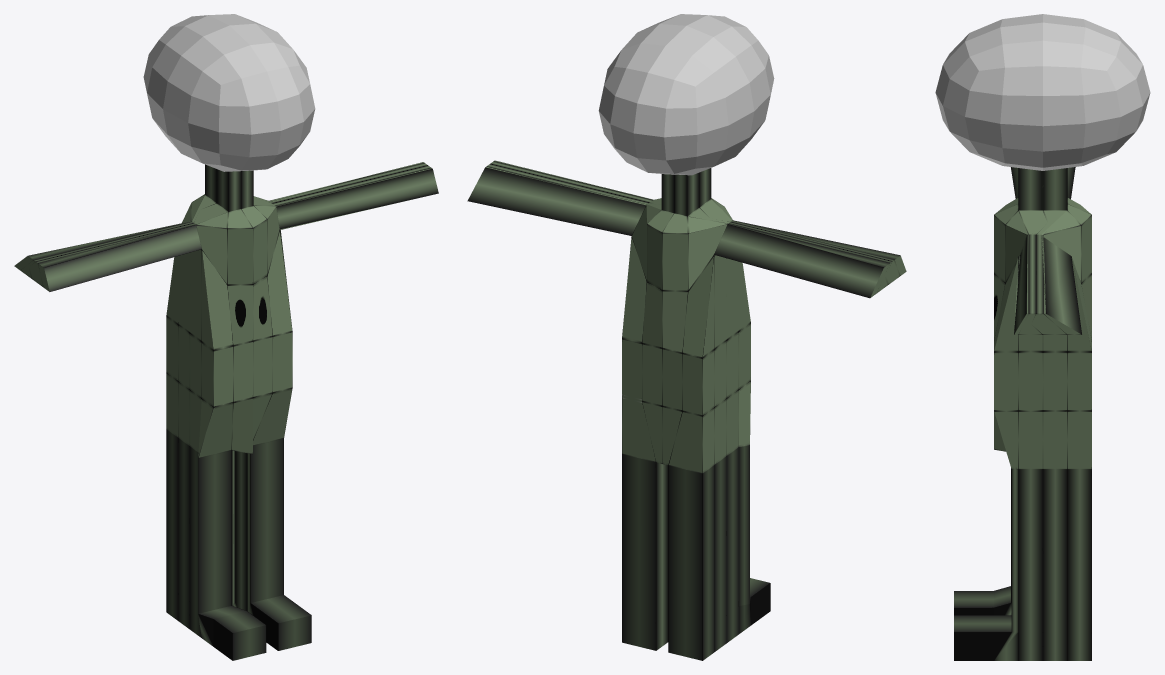
The model's file is zonbi.obj.
3 views of the same model, side by side, from view 1: azimuth 30°, elevation 25°; view 2: azimuth 150°, elevation 25°; view 3: azimuth 270°, elevation 25° (orthographic). The views are drawn at different scales.
Visible parts, largest first — view 1: 立方体; view 2: 立方体; view 3: 立方体.
Boxes of the visible parts, bbox=[...] form: 立方体: bbox=[14, 14, 438, 660]; 立方体: bbox=[467, 14, 906, 660]; 立方体: bbox=[935, 14, 1150, 660].
Size of the model in its own units: 1.35 by 1.95 by 0.6147.
